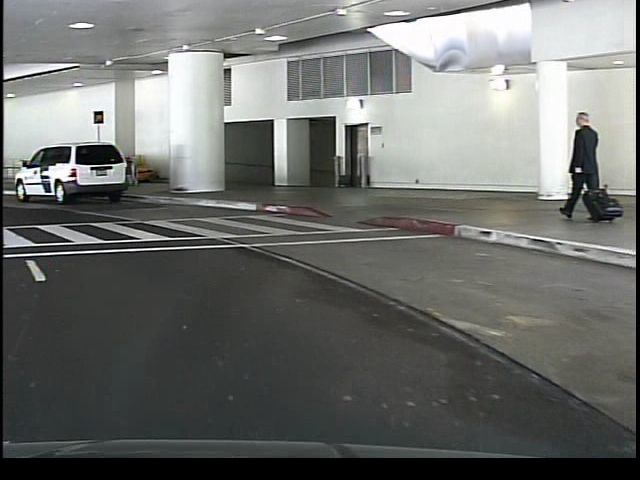person: (561, 103, 599, 225)
